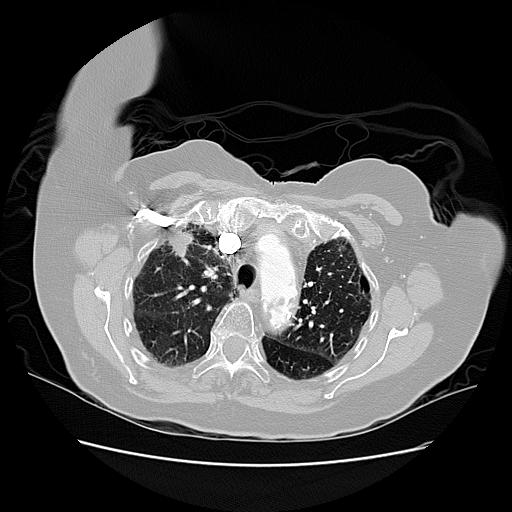nodule: (166, 227, 194, 255)
